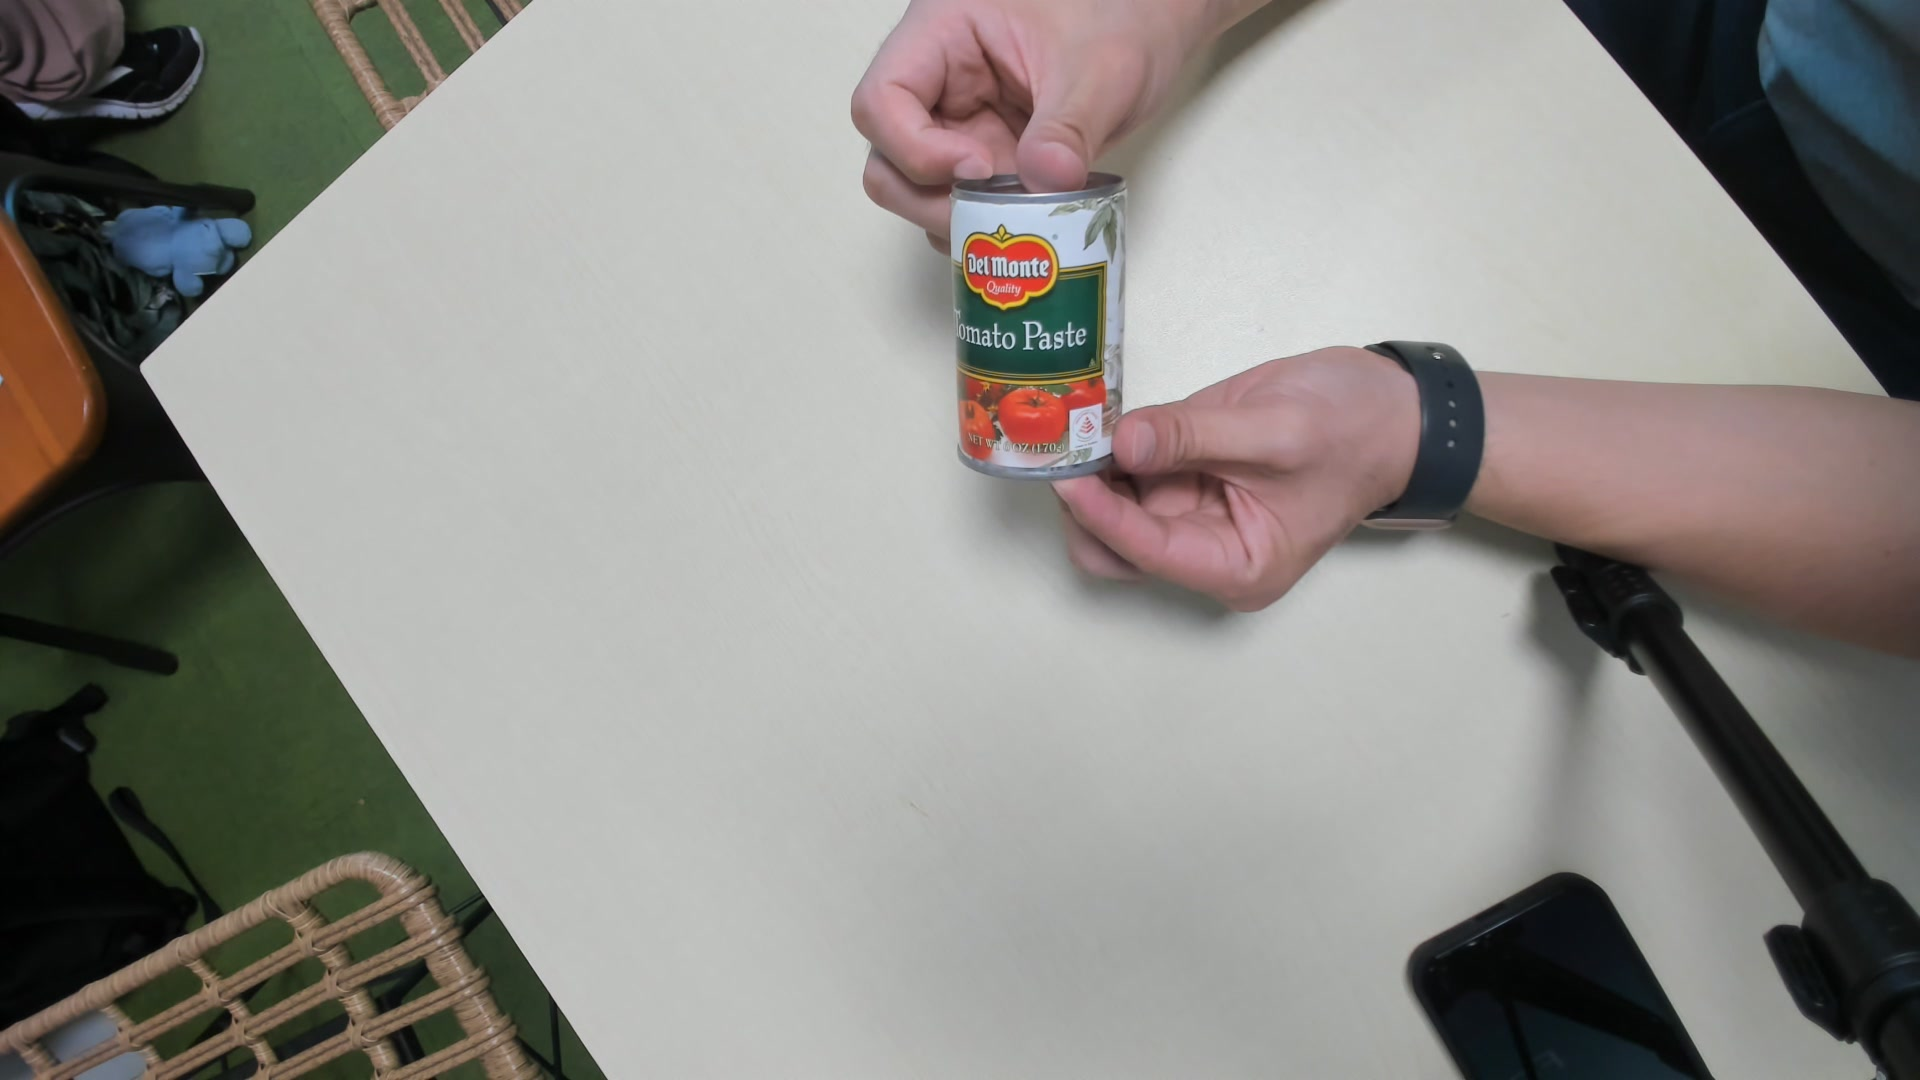OtherSauceDressing_100-199g_NonHalal_Healthy: (944, 174, 1129, 476)
